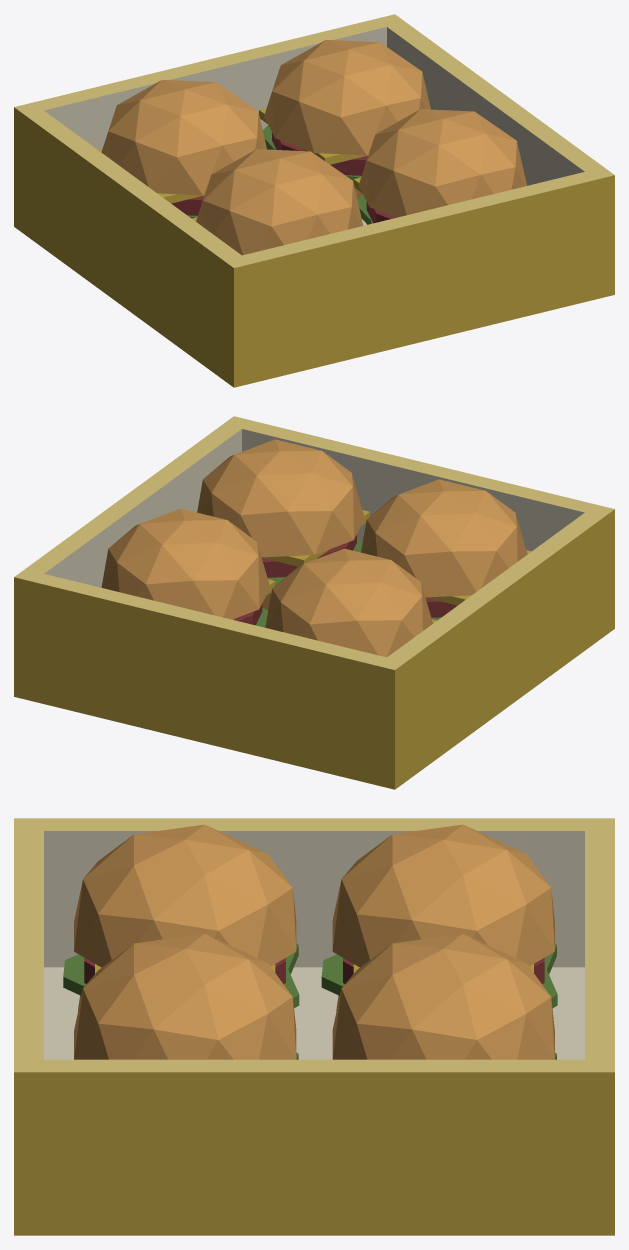
Rendered from Package.fbx.
The picture shows the model from 3 angles, top to bottom: view 1: azimuth 30°, elevation 25°; view 2: azimuth 150°, elevation 25°; view 3: azimuth 270°, elevation 25°; orthographic projection. The views are drawn at different scales.
Visible parts, largest first — view 1: Package; view 2: Package; view 3: Package.
Boxes of the visible parts, x1,y1,x2,y2 form: Package: [14, 14, 614, 387]; Package: [14, 416, 614, 789]; Package: [14, 818, 614, 1235].
Bounding box in the file's own units: 1 × 0.3934 × 1.
